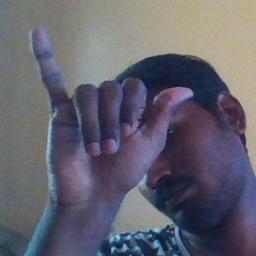J: (27, 25, 195, 199)
